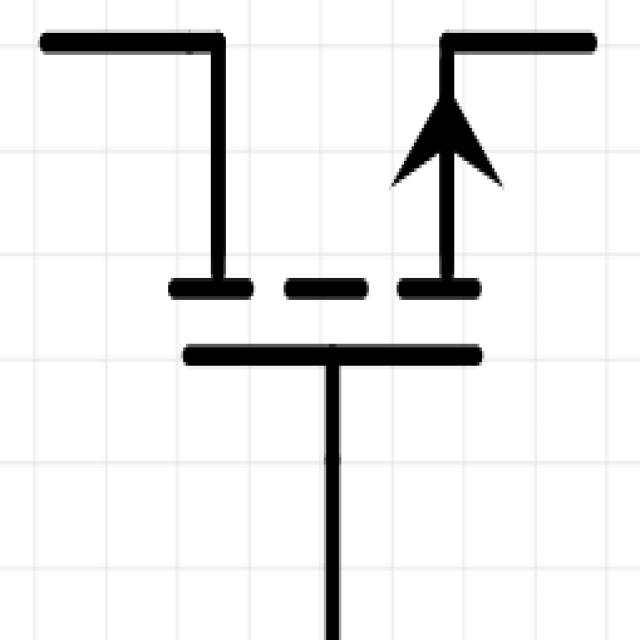nmos: (26, 18, 604, 631)
